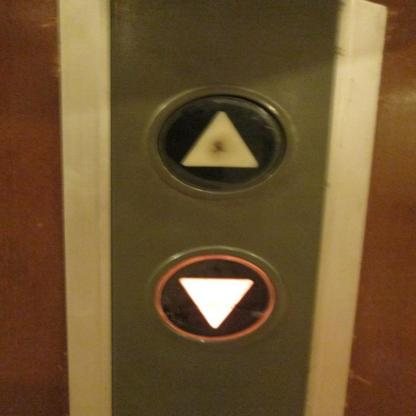down: (145, 245, 287, 349)
up: (145, 86, 296, 200)
